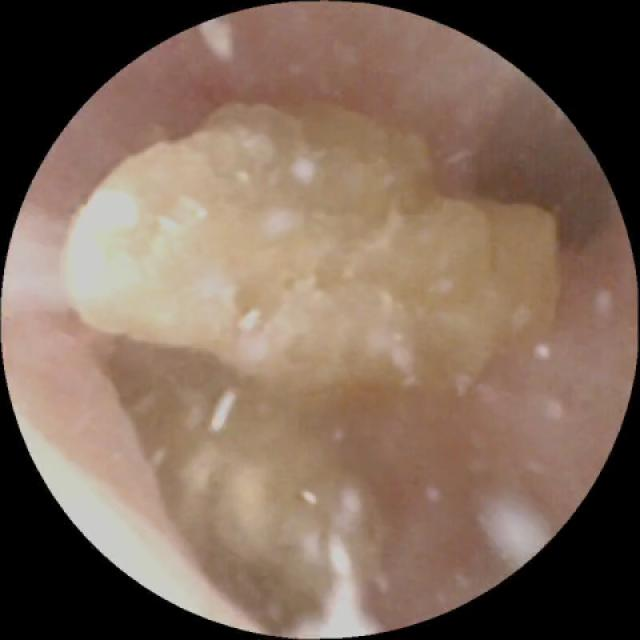stone: (62, 104, 555, 623)
